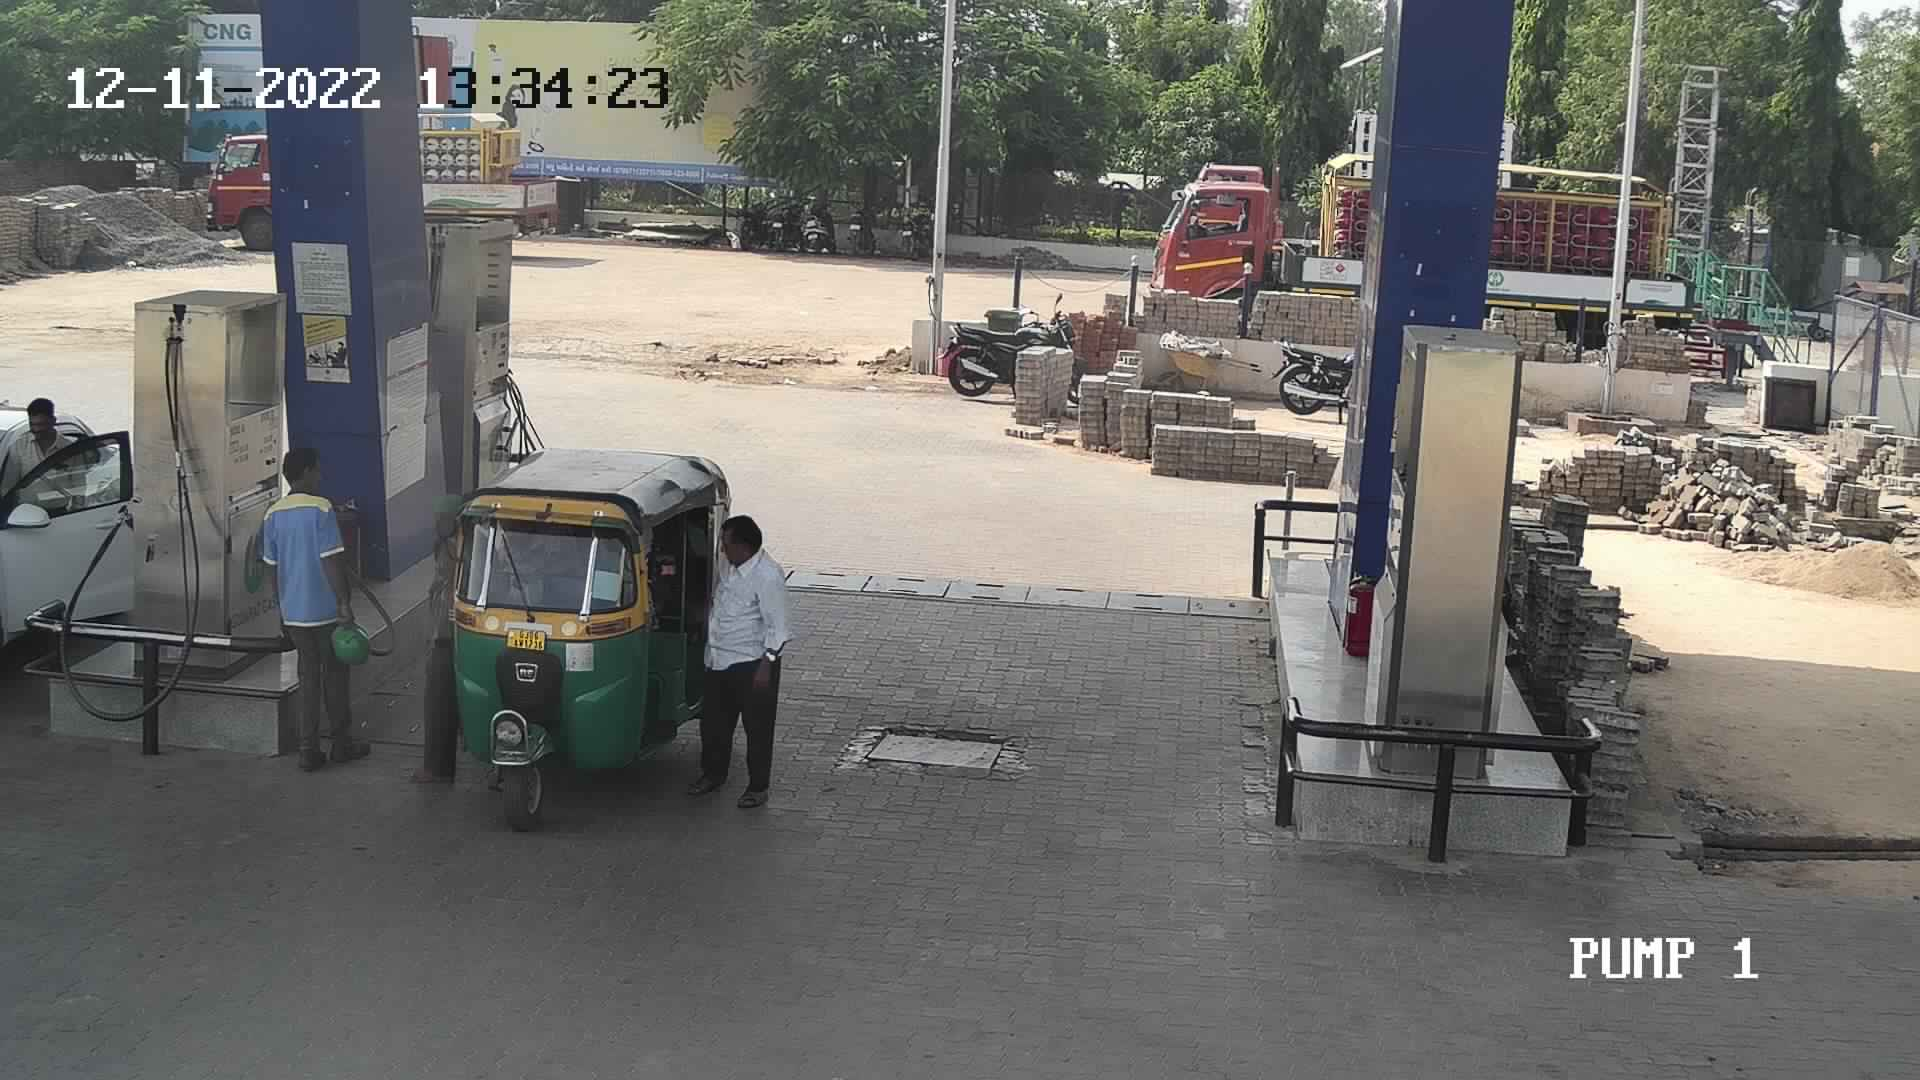Auto: (433, 433, 738, 840)
Bike: (931, 291, 1083, 411), (1265, 332, 1358, 427), (889, 187, 943, 269), (795, 173, 844, 257), (733, 171, 782, 253), (840, 187, 886, 260), (764, 177, 806, 252)
Car: (3, 372, 142, 686)
HMV: (1145, 138, 1375, 339), (1189, 99, 1378, 264), (406, 83, 570, 245)
Others: (251, 436, 377, 775)
